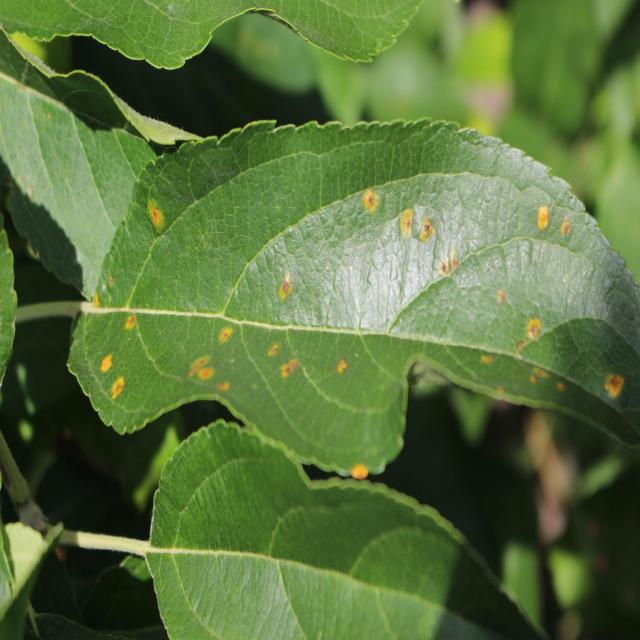Rust: (174, 320, 243, 395), (592, 358, 625, 420), (104, 373, 135, 421), (141, 188, 165, 248), (438, 240, 462, 297), (88, 335, 119, 378), (272, 258, 293, 318), (535, 200, 556, 258), (346, 452, 373, 496), (354, 182, 384, 221), (397, 203, 420, 252), (262, 323, 288, 366), (526, 307, 544, 369), (279, 356, 311, 389), (556, 219, 579, 258), (112, 306, 142, 335), (415, 213, 435, 256), (476, 348, 506, 372), (330, 347, 357, 372), (495, 283, 510, 326)
